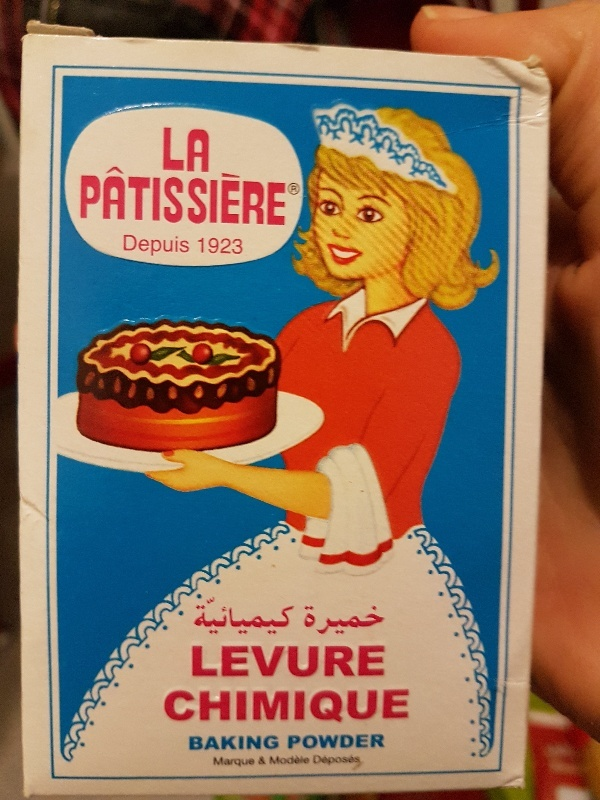text: (81, 164, 96, 228), (97, 164, 112, 228), (113, 164, 128, 228), (129, 164, 144, 228), (145, 164, 160, 228), (161, 164, 176, 228), (177, 164, 192, 228), (193, 164, 208, 228), (209, 164, 224, 228), (225, 164, 240, 228), (241, 164, 256, 228), (257, 164, 272, 228), (273, 164, 288, 228), (177, 127, 192, 175), (193, 127, 208, 175), (163, 127, 176, 175), (193, 596, 208, 636), (209, 596, 224, 636), (225, 596, 240, 636), (241, 596, 256, 636), (257, 596, 272, 636), (273, 596, 288, 636), (177, 689, 192, 723), (193, 689, 208, 723), (209, 689, 224, 723), (225, 689, 240, 723), (241, 689, 256, 723), (257, 689, 272, 723), (273, 689, 288, 723), (289, 689, 304, 723), (305, 689, 320, 723), (321, 689, 336, 723), (337, 689, 352, 723), (353, 689, 368, 723), (369, 689, 384, 723), (385, 689, 400, 723), (193, 645, 208, 677), (209, 645, 224, 677), (225, 645, 240, 677), (241, 645, 256, 677), (257, 645, 272, 677), (273, 645, 288, 677), (289, 645, 304, 677), (305, 645, 320, 677), (321, 645, 336, 677), (337, 645, 352, 677), (353, 645, 368, 677), (369, 645, 384, 677), (305, 604, 320, 635), (321, 604, 336, 635), (337, 604, 352, 635), (353, 604, 368, 635), (369, 604, 384, 635), (165, 689, 176, 723), (129, 235, 144, 258), (145, 235, 160, 258), (161, 235, 176, 258), (177, 235, 191, 258), (401, 689, 410, 723), (209, 237, 224, 255), (225, 237, 240, 255), (289, 596, 295, 636), (193, 735, 208, 751), (209, 735, 224, 751), (225, 735, 240, 751), (241, 735, 256, 751), (257, 735, 272, 751), (369, 734, 385, 749), (289, 734, 304, 749), (305, 734, 320, 749), (321, 734, 336, 749), (337, 734, 352, 749), (353, 734, 368, 749), (225, 756, 240, 769), (321, 754, 336, 767), (337, 754, 352, 767), (241, 756, 255, 769), (198, 237, 208, 255), (273, 755, 288, 766), (289, 755, 304, 766), (213, 756, 224, 769), (258, 756, 272, 766), (123, 235, 128, 258), (291, 185, 304, 193), (312, 754, 320, 767), (353, 754, 361, 767), (273, 735, 279, 751), (305, 755, 310, 766), (209, 127, 210, 175), (189, 735, 192, 751), (268, 755, 272, 766), (241, 237, 243, 255), (385, 645, 386, 677), (303, 604, 304, 635), (385, 604, 386, 635), (287, 734, 288, 749)
